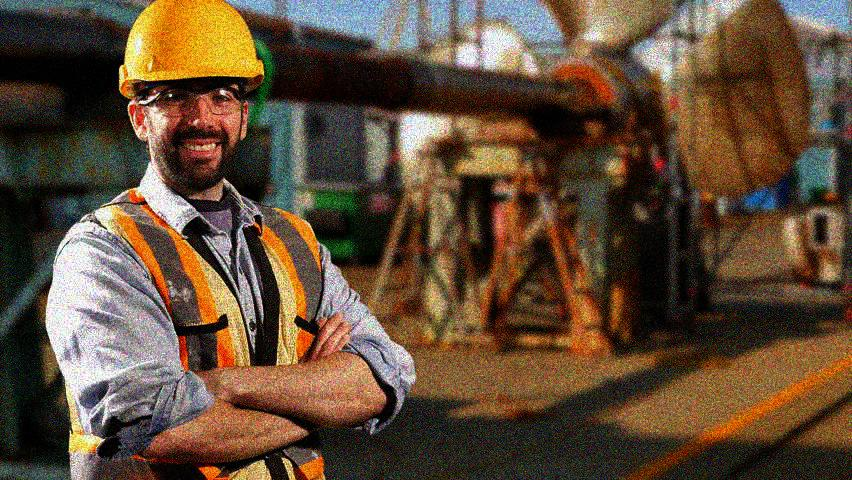helmet: (114, 2, 265, 190)
